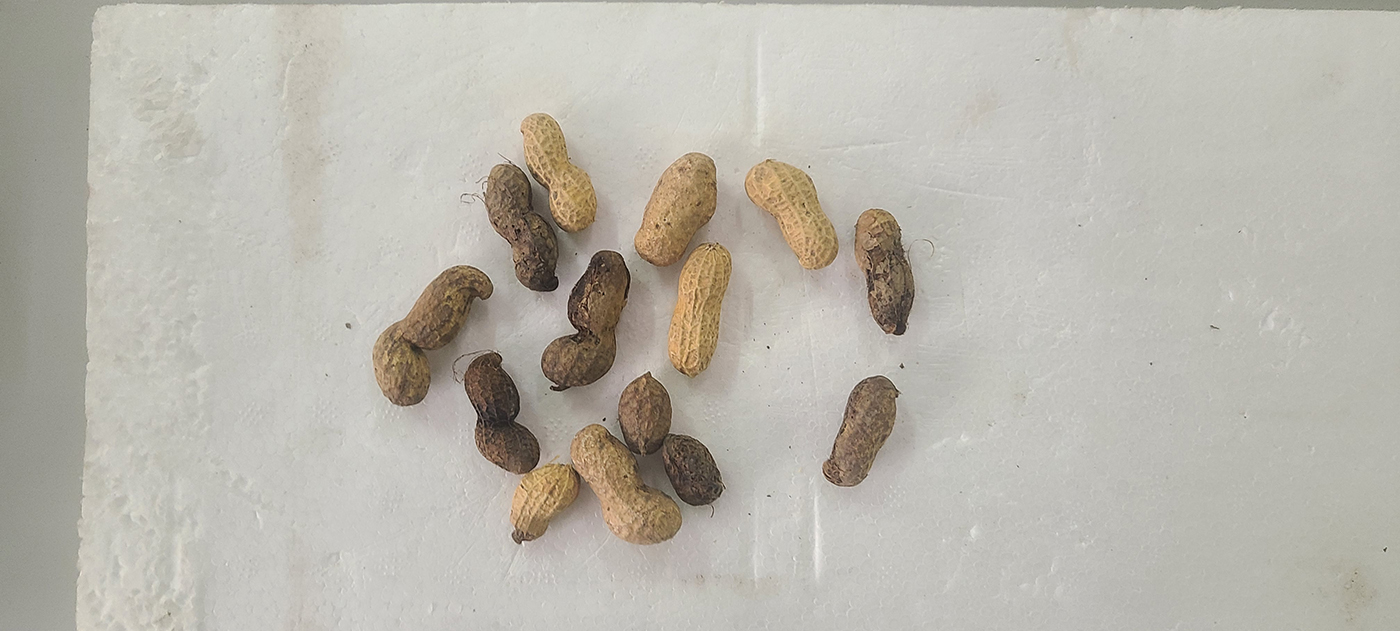h: (571, 423, 683, 545), (744, 159, 839, 270), (634, 152, 717, 268), (520, 112, 598, 232), (667, 243, 733, 379), (509, 463, 580, 543)
l: (371, 263, 493, 406), (540, 251, 631, 387), (484, 163, 561, 292), (465, 352, 541, 474), (822, 374, 900, 486), (854, 208, 914, 336), (662, 433, 723, 506), (619, 373, 673, 454)
